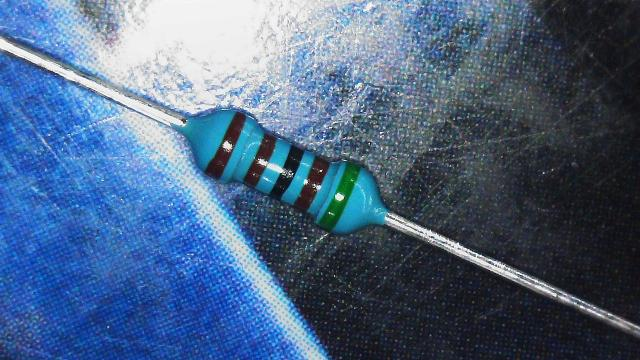black: (270, 145, 304, 198)
brown: (205, 112, 245, 179), (294, 157, 329, 211), (244, 132, 276, 187)
green: (318, 162, 361, 231)
resistor: (178, 86, 390, 253)
